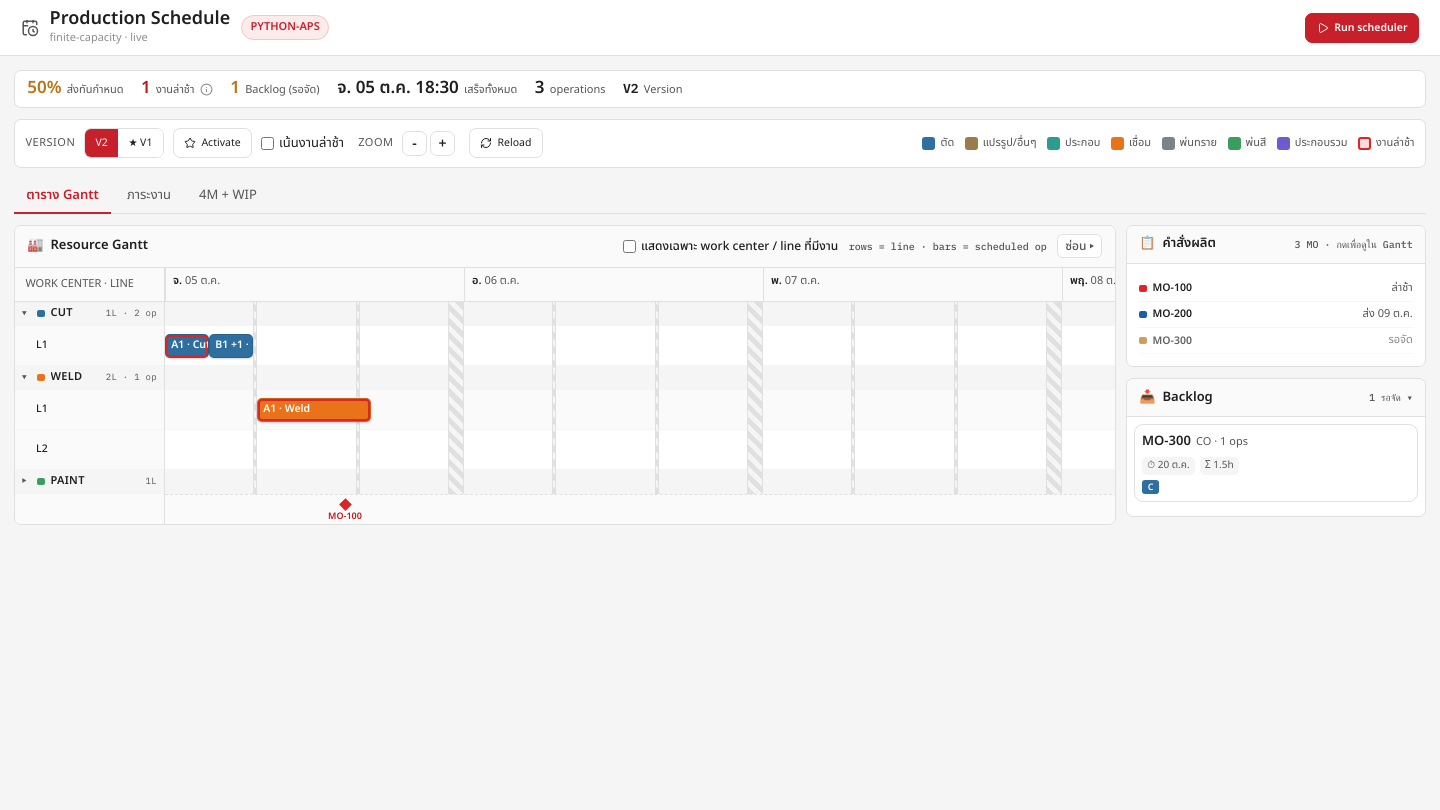
Test: ProductionSchedule › hides the side panel for a full-width Gantt; picking a bar opens it again
Click the button "ซ่อน ▸": x=1080, y=246 x1=1057 y1=234 x2=1102 y2=258
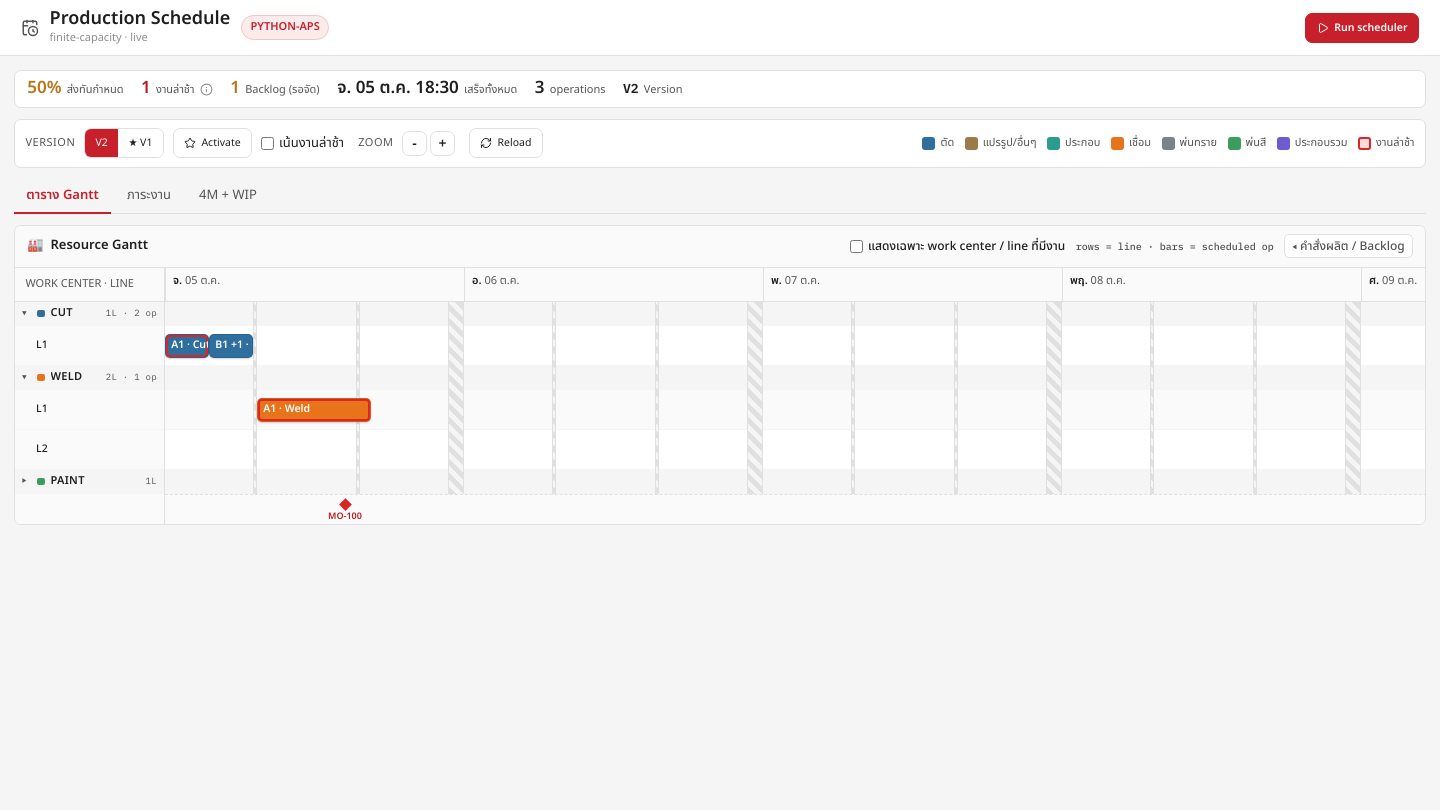
Click the button with aria-label "A1 · Weld · ล่าช้า": x=314, y=410 x1=257 y1=398 x2=371 y2=422
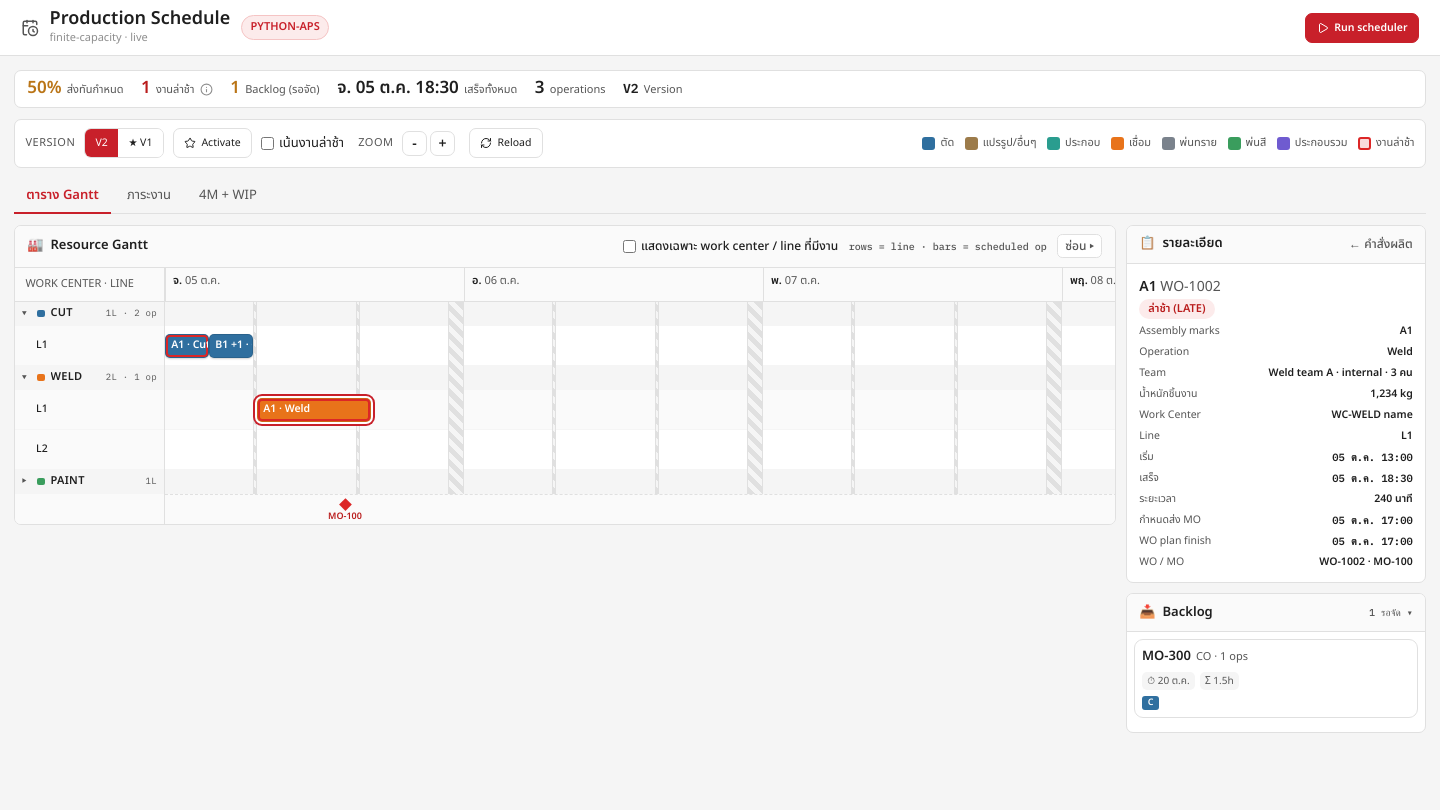
Check: the element with test id "op-detail" is shown, box x1=1139 y1=276 x2=1413 y2=569
Check: the element "Backlog" is shown, box x1=1126 y1=593 x2=1426 y2=732
